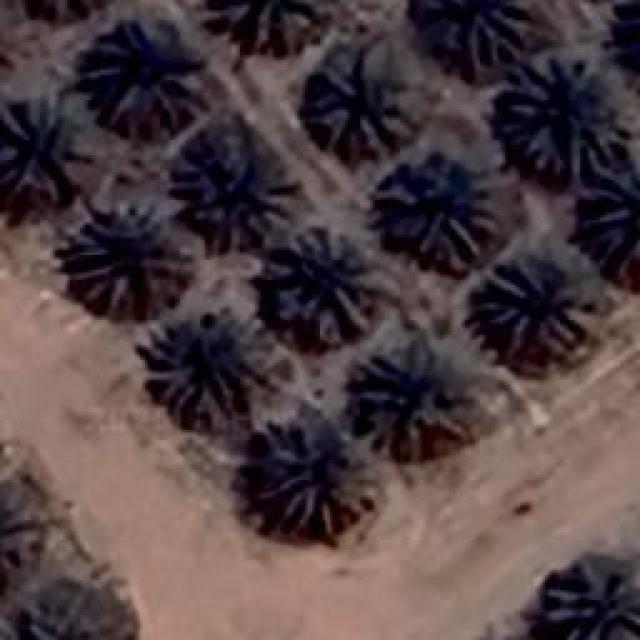PalmTree: (492, 52, 632, 178), (67, 192, 195, 318), (378, 145, 500, 270), (260, 415, 385, 535), (355, 332, 480, 448), (85, 22, 210, 136), (180, 134, 298, 248), (150, 314, 265, 428), (260, 225, 370, 340), (480, 260, 590, 355), (308, 60, 410, 155), (542, 552, 638, 638), (2, 102, 82, 200), (7, 584, 142, 638), (587, 172, 640, 292), (435, 0, 530, 62), (220, 0, 320, 52), (0, 478, 45, 582), (8, 0, 130, 28)
